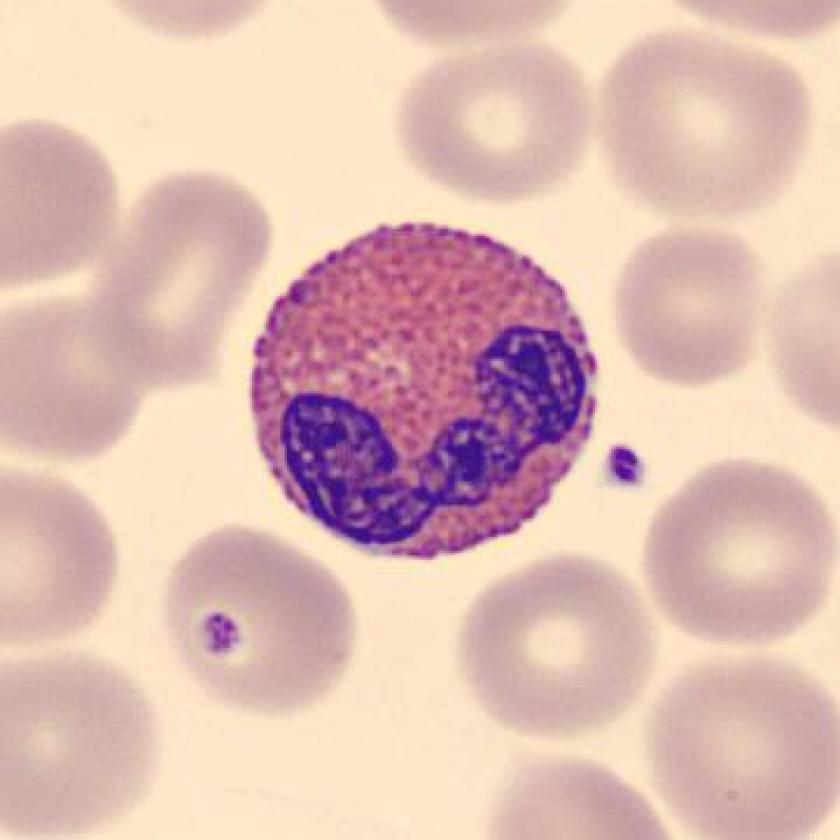eosinophil: (237, 207, 612, 579)
